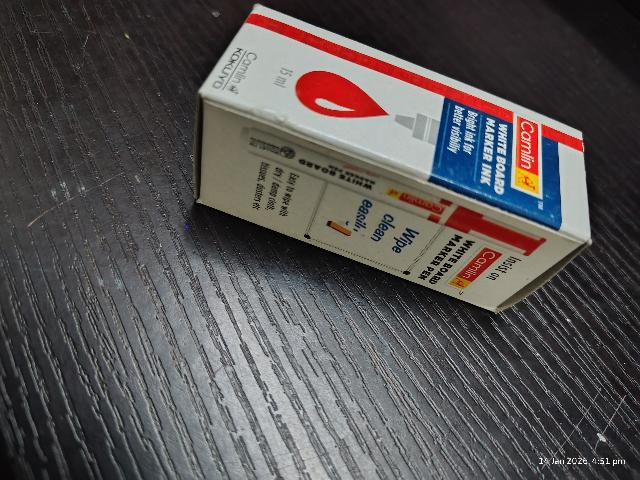camlin marker ink: (200, 44, 579, 253)
